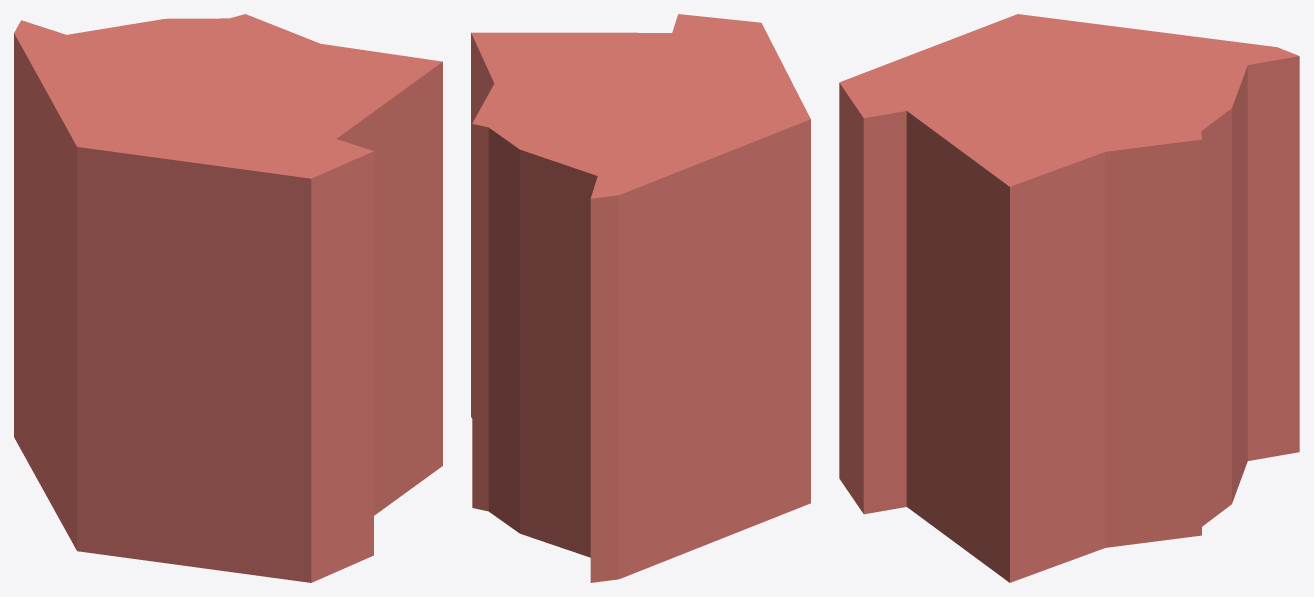
The model's file is south_amboy.glb.
The picture shows the model from 3 angles, left to right: view 1: azimuth 30°, elevation 25°; view 2: azimuth 150°, elevation 25°; view 3: azimuth 270°, elevation 25°; orthographic projection. The views are drawn at different scales.
Visible parts, largest first — view 1: Plane.010; view 2: Plane.010; view 3: Plane.010.
Boxes of the visible parts, x1,y1,x2,y2 form: Plane.010: [14, 14, 442, 582]; Plane.010: [471, 14, 810, 582]; Plane.010: [839, 14, 1299, 582].
Size of the model in its own units: 0.3172 by 0.3388 by 0.357.
